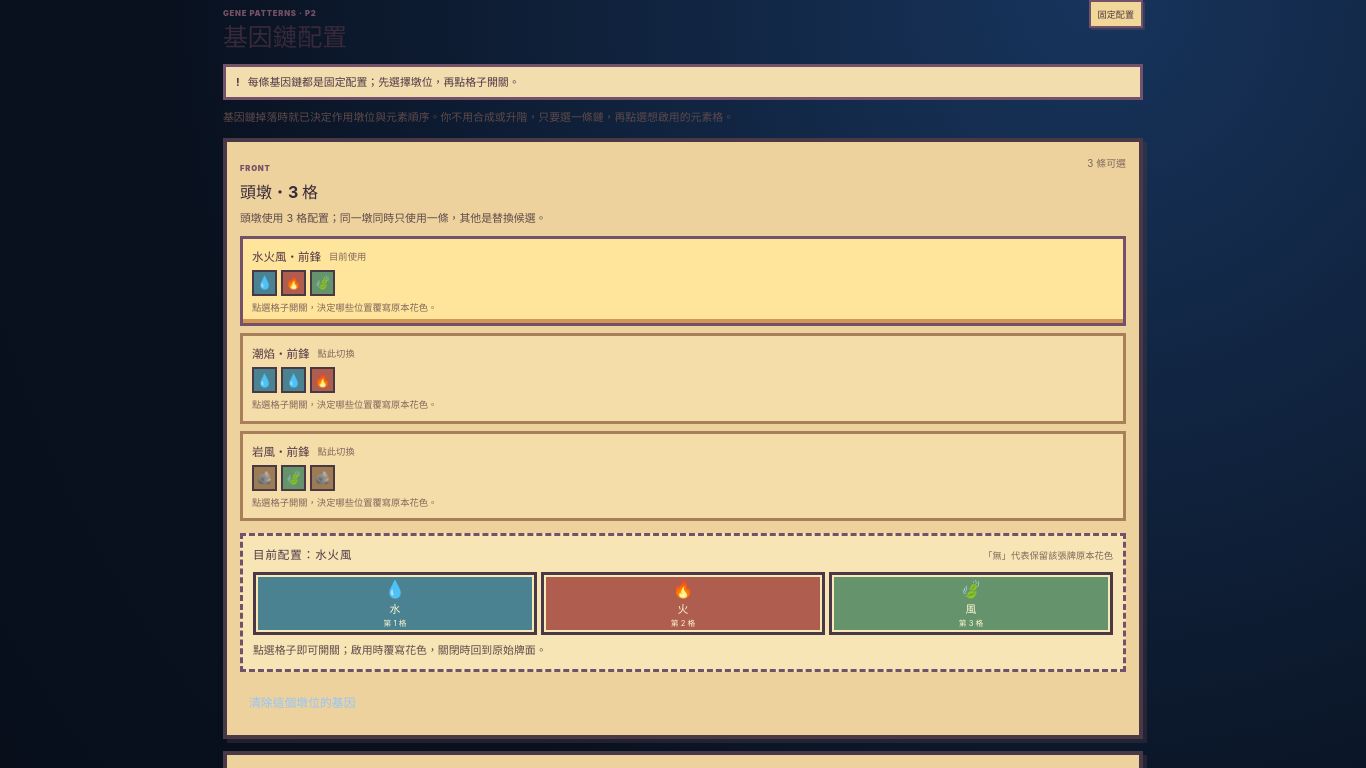
Scenario: GeneWorkshopView › toggles a fixed element without changing its pattern
Click the button named "第 1 格 水元素已啟用": (395, 604) [253,572,537,635]
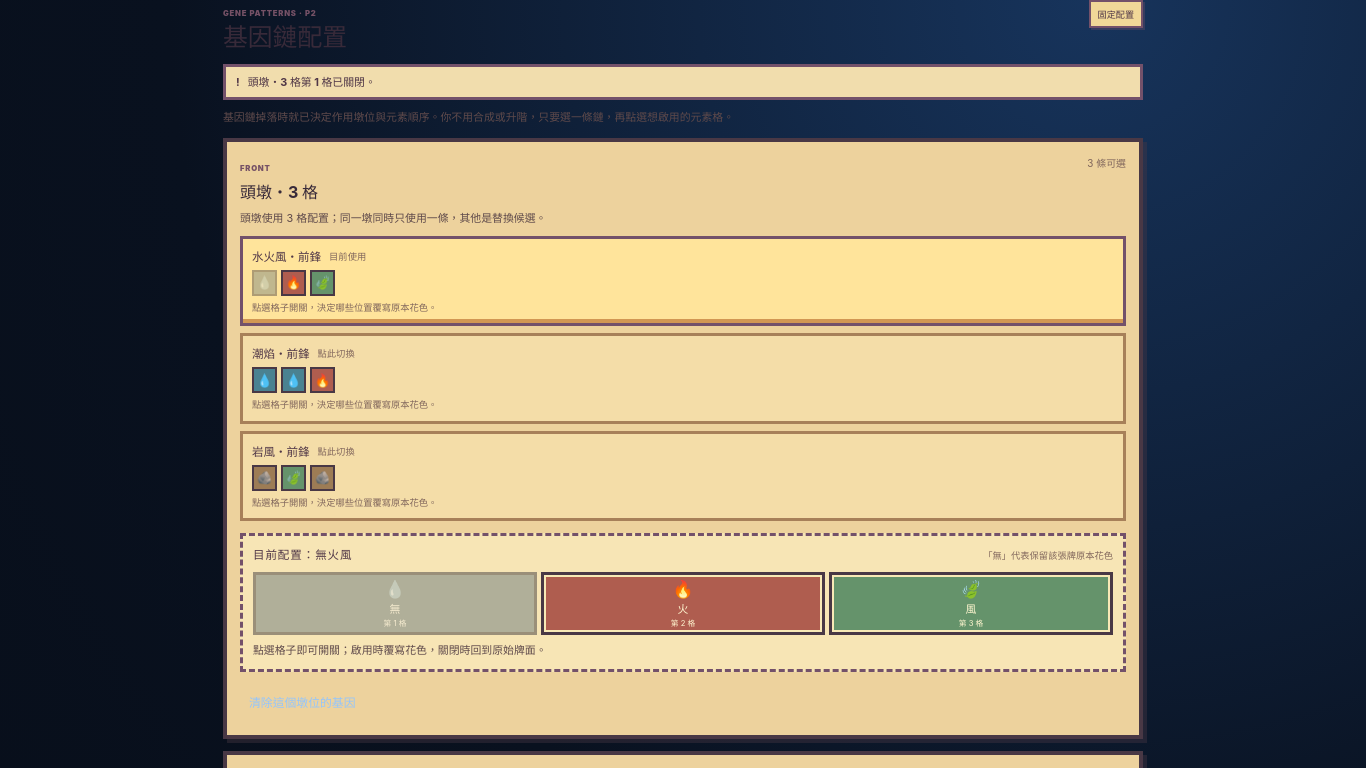
Check: the text "目前配置：無火風" is shown, box [253,546,352,562]
